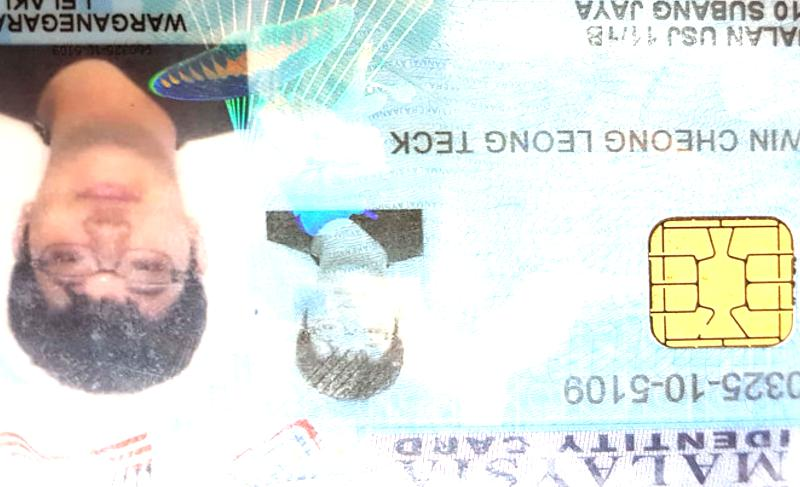hologramB: (251, 3, 391, 205)
